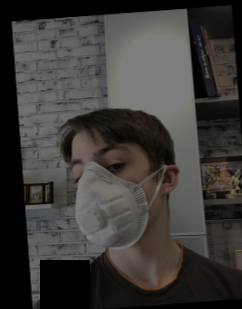with_mask: (71, 141, 157, 251)
